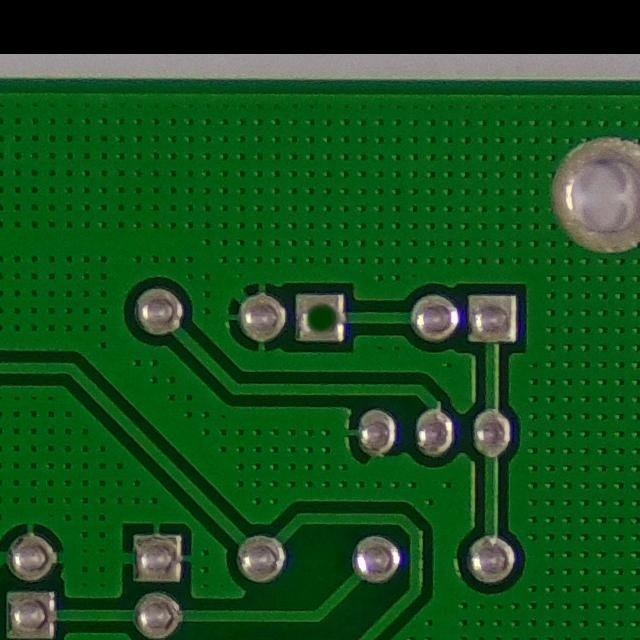missing_hole: (286, 292, 354, 348)
